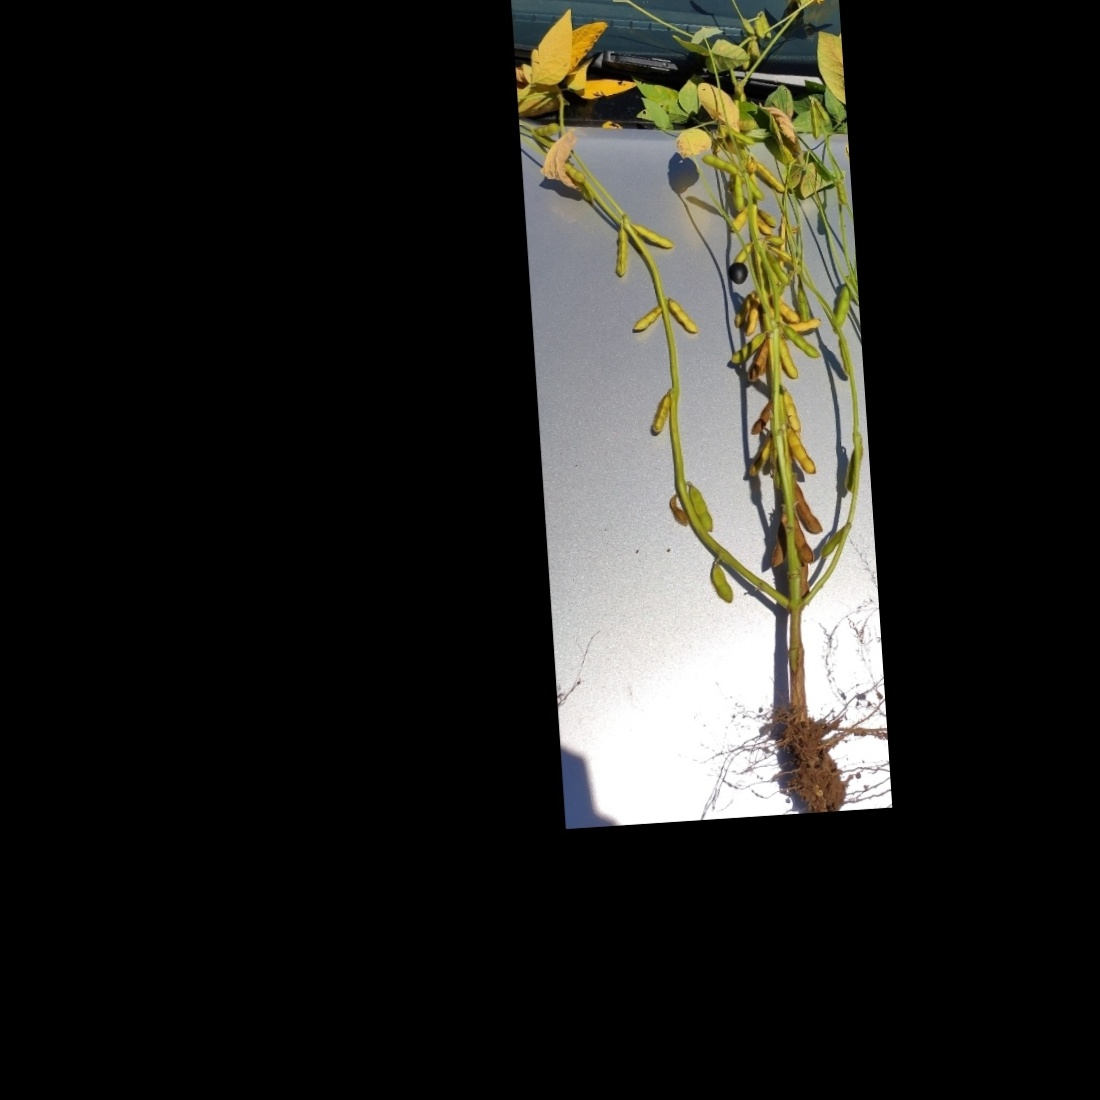pod: (773, 316, 821, 363), (789, 475, 822, 537), (624, 216, 676, 253), (725, 330, 769, 366), (786, 425, 815, 476), (753, 155, 788, 197), (689, 480, 715, 534), (665, 293, 699, 332), (646, 390, 673, 438), (608, 223, 632, 279), (709, 559, 735, 607), (763, 246, 791, 290), (792, 509, 813, 567), (699, 150, 741, 178), (775, 335, 799, 382), (817, 522, 846, 560), (831, 284, 853, 328), (783, 385, 802, 435), (630, 306, 663, 333), (743, 294, 764, 337), (772, 295, 800, 325), (805, 104, 822, 142), (532, 118, 561, 140), (731, 174, 747, 213), (562, 163, 588, 186), (837, 179, 848, 208)
soy: (524, 0, 887, 801)
